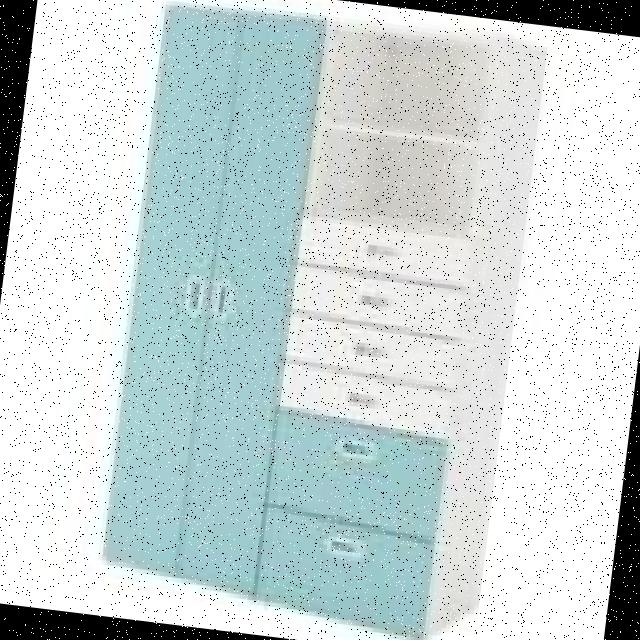Closet: (77, 0, 563, 640)
